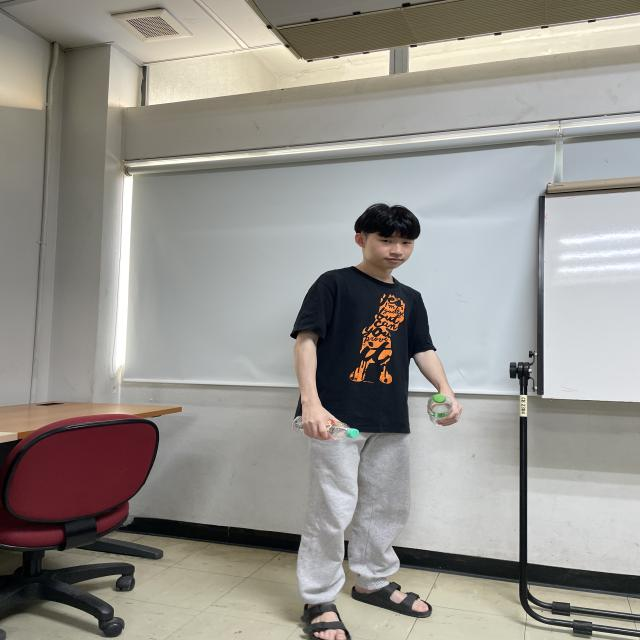bottle: (290, 415, 361, 441), (428, 394, 453, 427)
